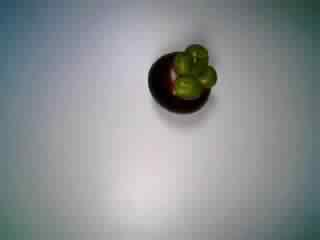mangosteen: (140, 41, 223, 116)
